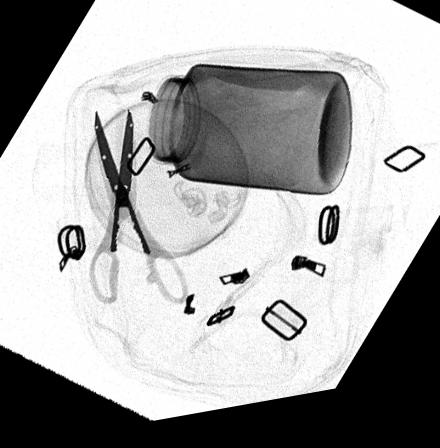Scissors: (83, 108, 191, 312)
